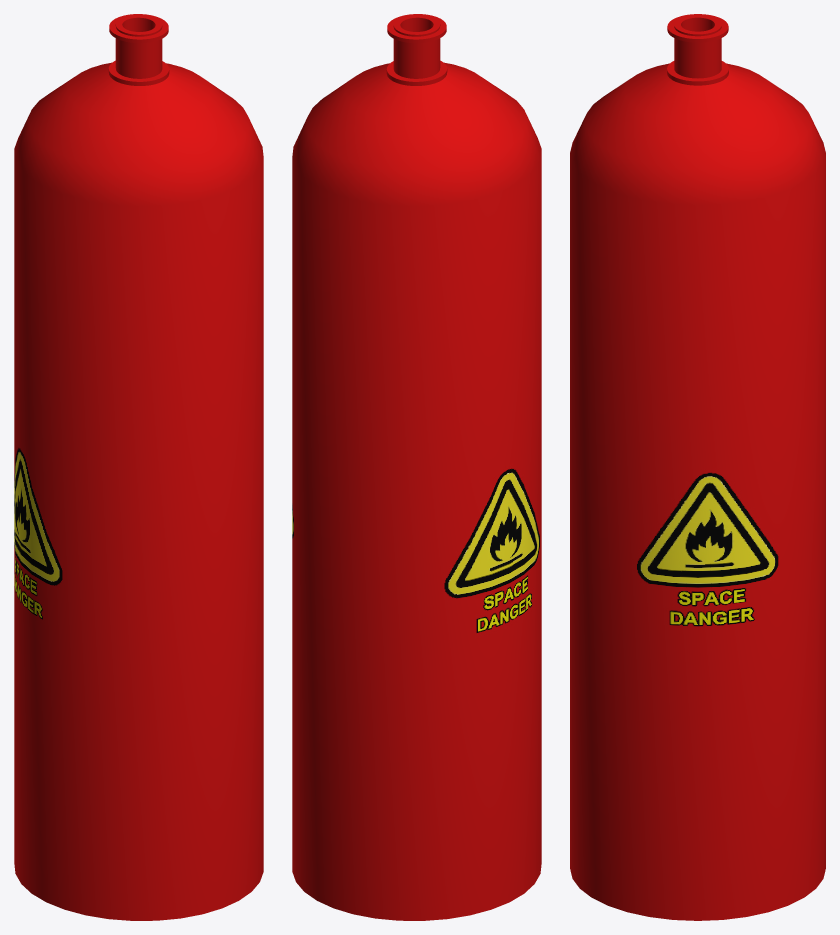
Rendered from gas canister.fbx.
3 views of the same model, side by side, from view 1: azimuth 30°, elevation 25°; view 2: azimuth 150°, elevation 25°; view 3: azimuth 270°, elevation 25° (orthographic).
Parts seen in each view (by area): view 1: Cube.001; view 2: Cube.001; view 3: Cube.001.
Part boxes in pixels (x1,y1,x2,y2): Cube.001: (14, 14, 263, 920); Cube.001: (292, 14, 541, 920); Cube.001: (570, 14, 825, 920).
Bounding box in the file's own units: 100 × 375 × 103.
